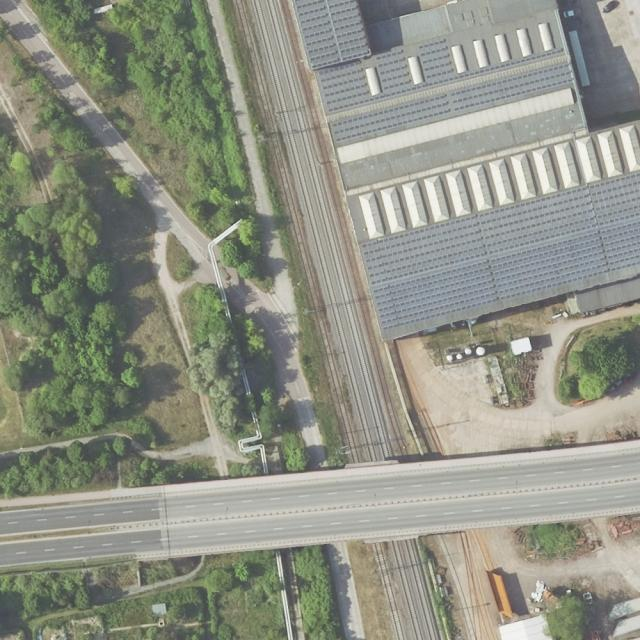PV: (362, 174, 640, 330), (331, 61, 575, 143), (318, 38, 564, 114), (295, 0, 370, 67)
